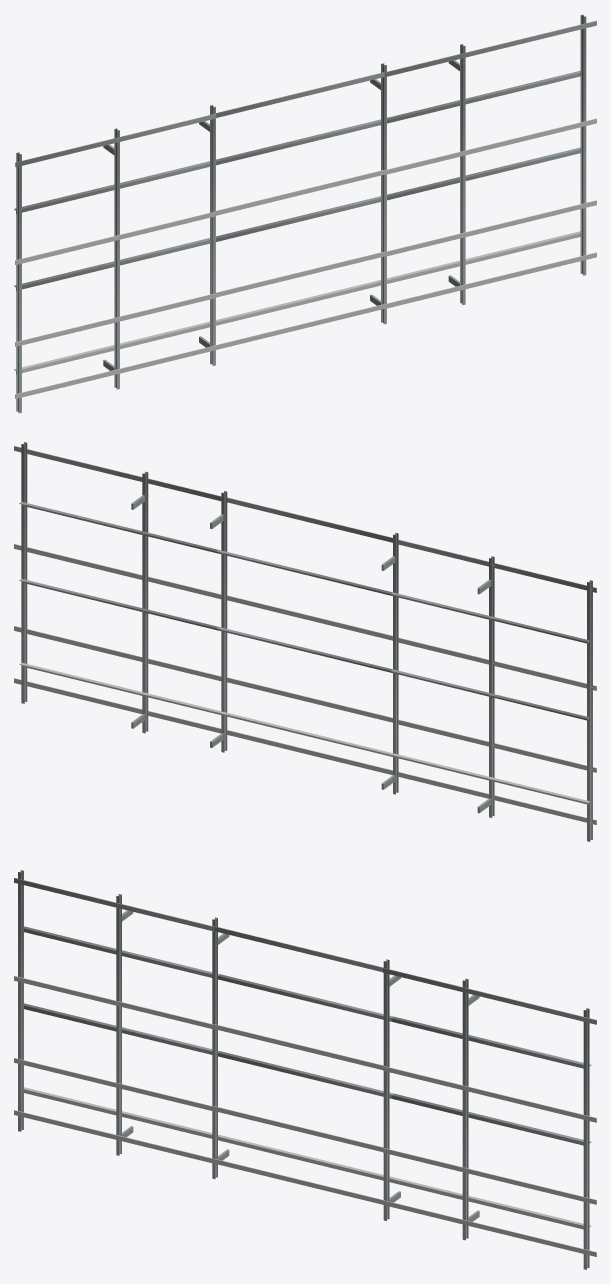
The model's file is signboardframe03b.fbx.
3 views of the same model, one above another, from view 1: azimuth 30°, elevation 25°; view 2: azimuth 150°, elevation 25°; view 3: azimuth 330°, elevation 25° (orthographic).
Visible parts, largest first — view 1: signboardframe03b; view 2: signboardframe03b; view 3: signboardframe03b.
Boxes of the visible parts, x1,y1,x2,y2 form: signboardframe03b: (14,14,596,413); signboardframe03b: (14,442,596,841); signboardframe03b: (14,870,596,1269).
Bounding box in the file's own units: 716 × 305 × 31.75.
